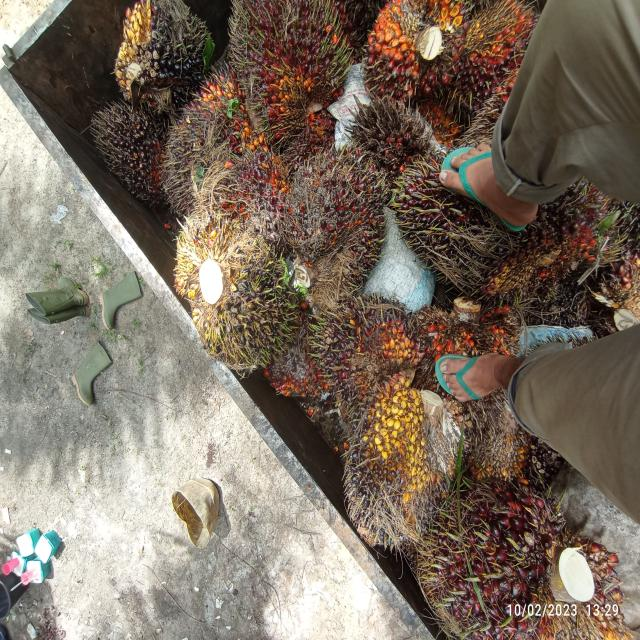fraksi 00: (166, 213, 305, 394), (334, 361, 450, 553), (109, 0, 212, 101), (86, 98, 164, 201)
fraksi 1: (434, 472, 618, 640), (265, 132, 397, 288), (308, 282, 428, 420)
fraksi 3: (228, 0, 353, 137), (366, 3, 523, 109)
